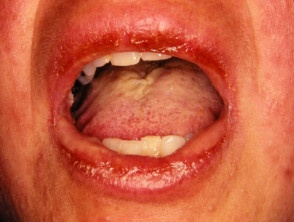SJS-TEN: (0, 2, 246, 221), (245, 0, 293, 221)
